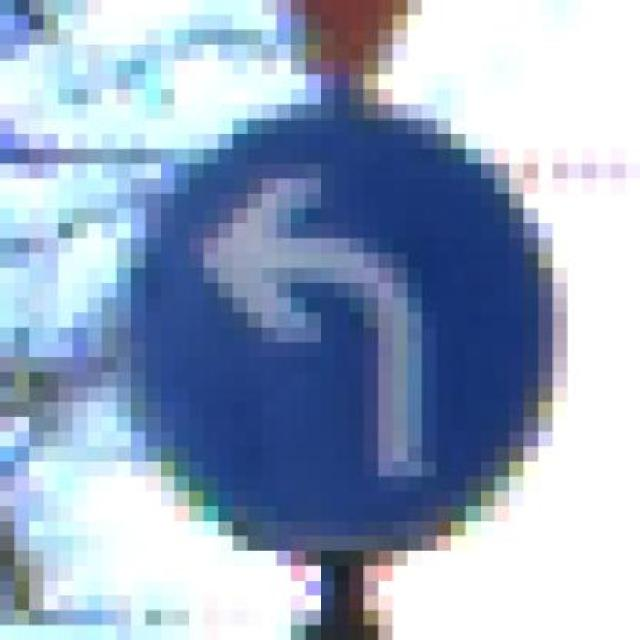Turn left ahead: (87, 89, 582, 551)
